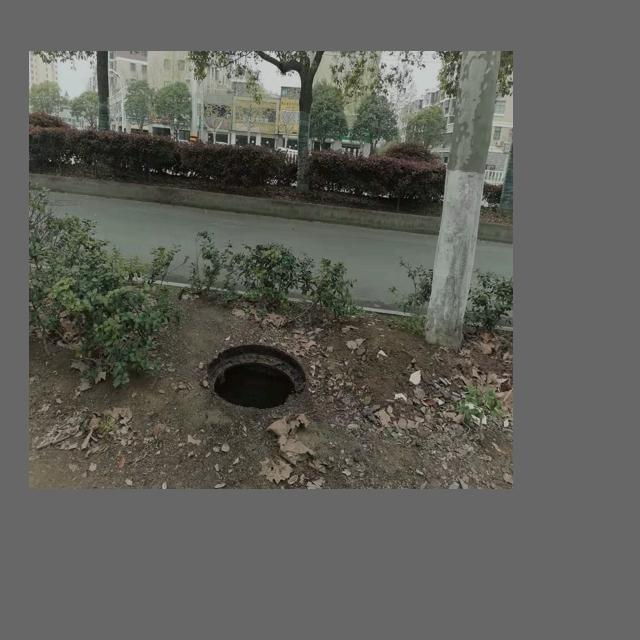lose: (207, 343, 309, 412)
